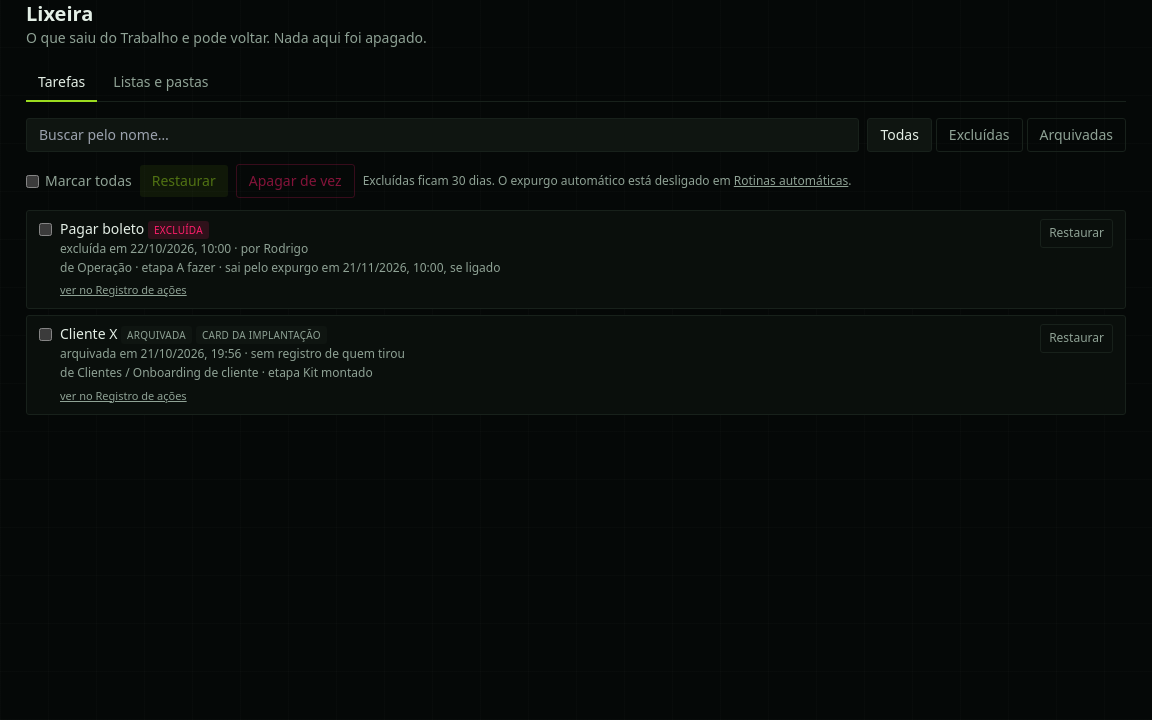
Test case: I2: a Lixeira › Apagar de vez: só com admin.usuarios, só as excluídas, com a frase
The image size is (1152, 720).
Click the checkbox named "Marcar Cliente X". click: (46, 335)
box: [39,328,52,341]
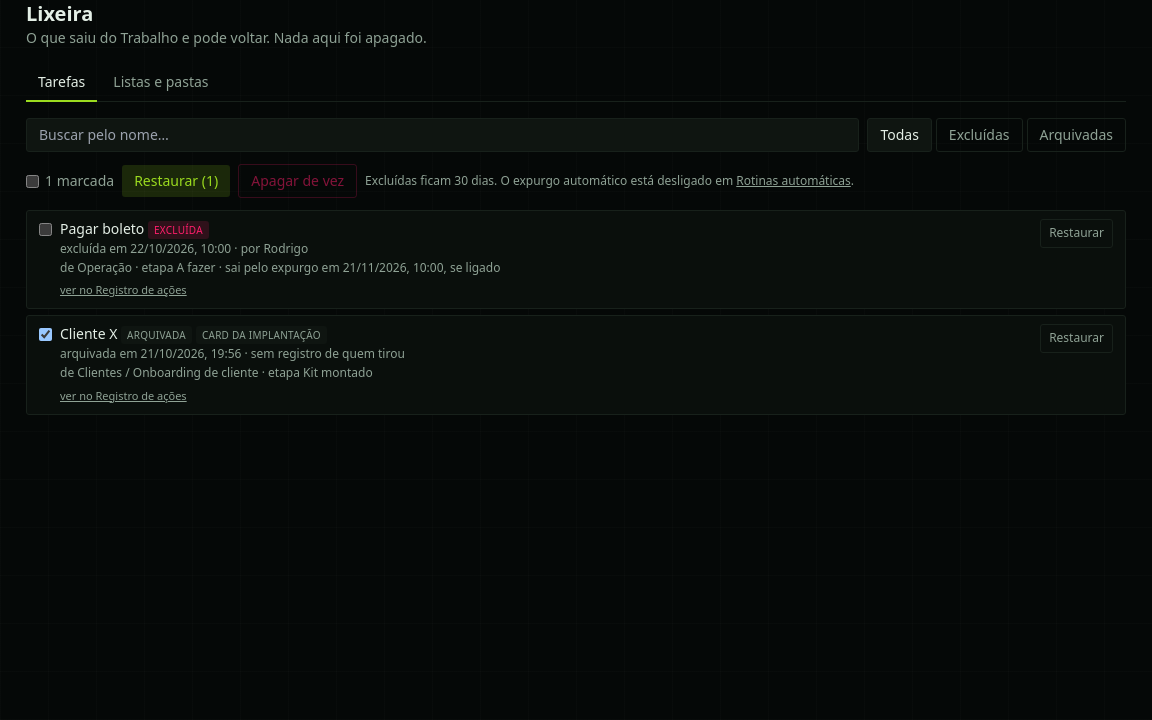
Expected: the button with test id "lixeira-apagar-de-vez" is disabled, [238,164,357,198]
Click the checkbox named "Marcar Pagar boleto". click: (46, 230)
box: [39,223,52,236]
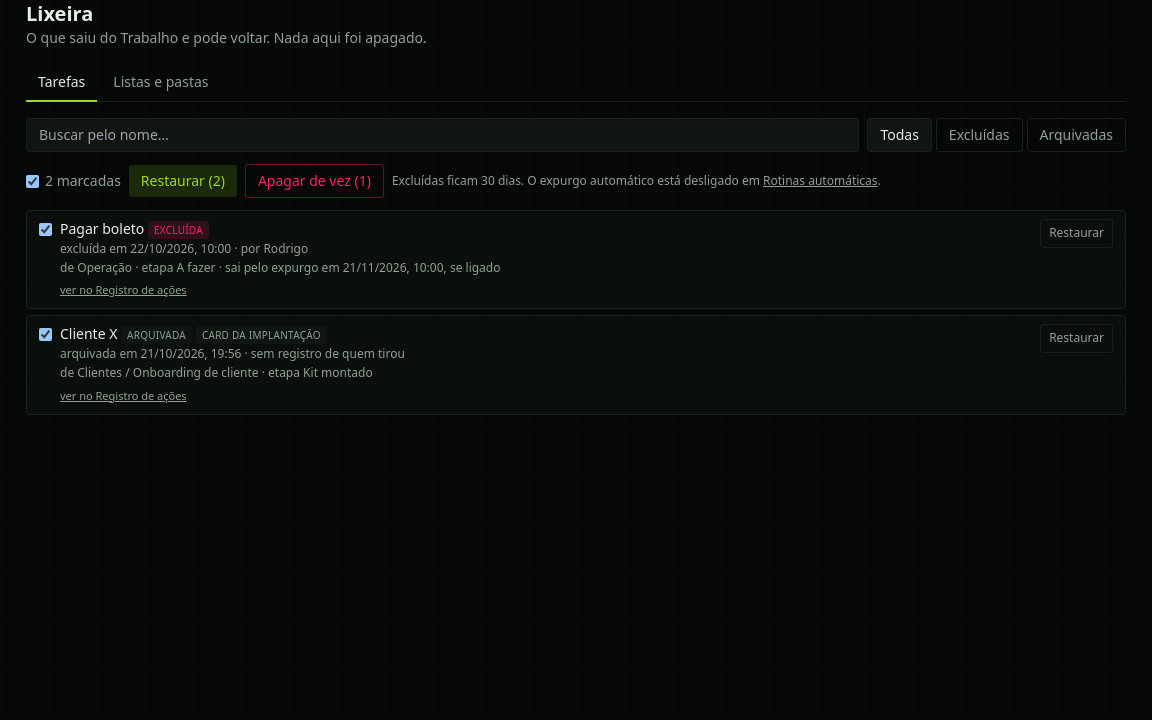
Expected: the button with test id "lixeira-apagar-de-vez" is enabled
Click the button with test id "lixeira-apagar-de-vez". click: (314, 181)
box: [245,164,384,198]
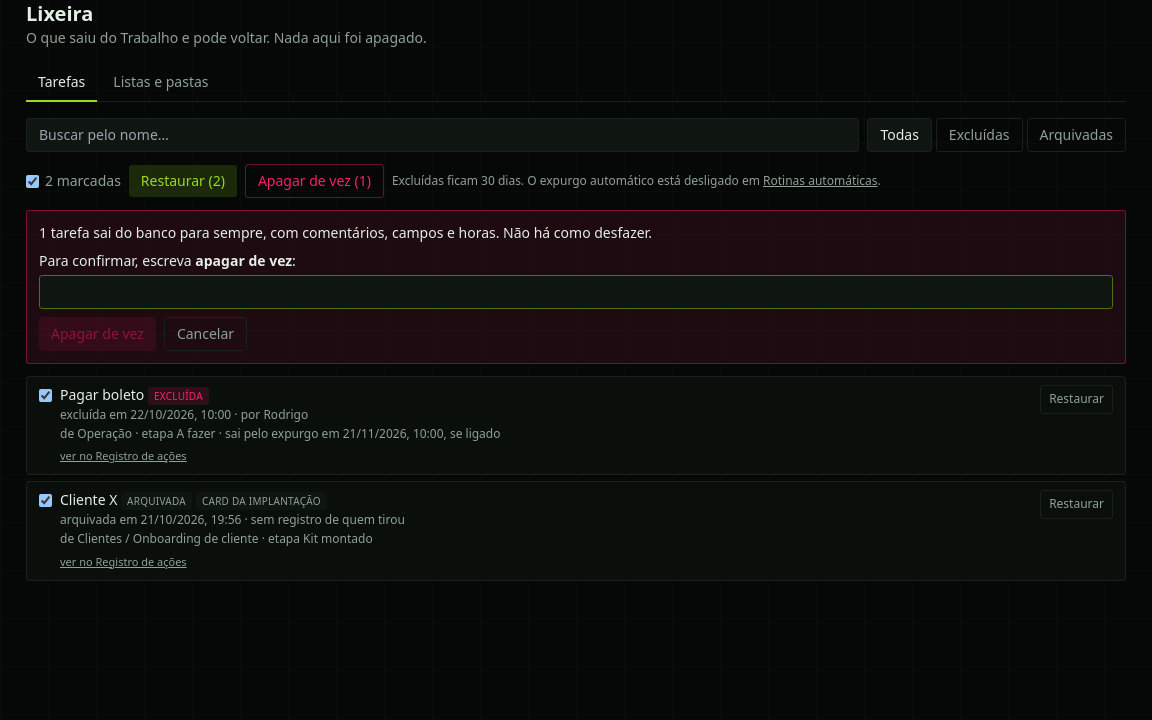
Expected: the button with test id "lixeira-apagar-confirmar" is disabled, [39,317,156,351]
Type "Apagar de vez" into the field with test id "lixeira-frase". click: (576, 292)
box: [39,275,1113,309]
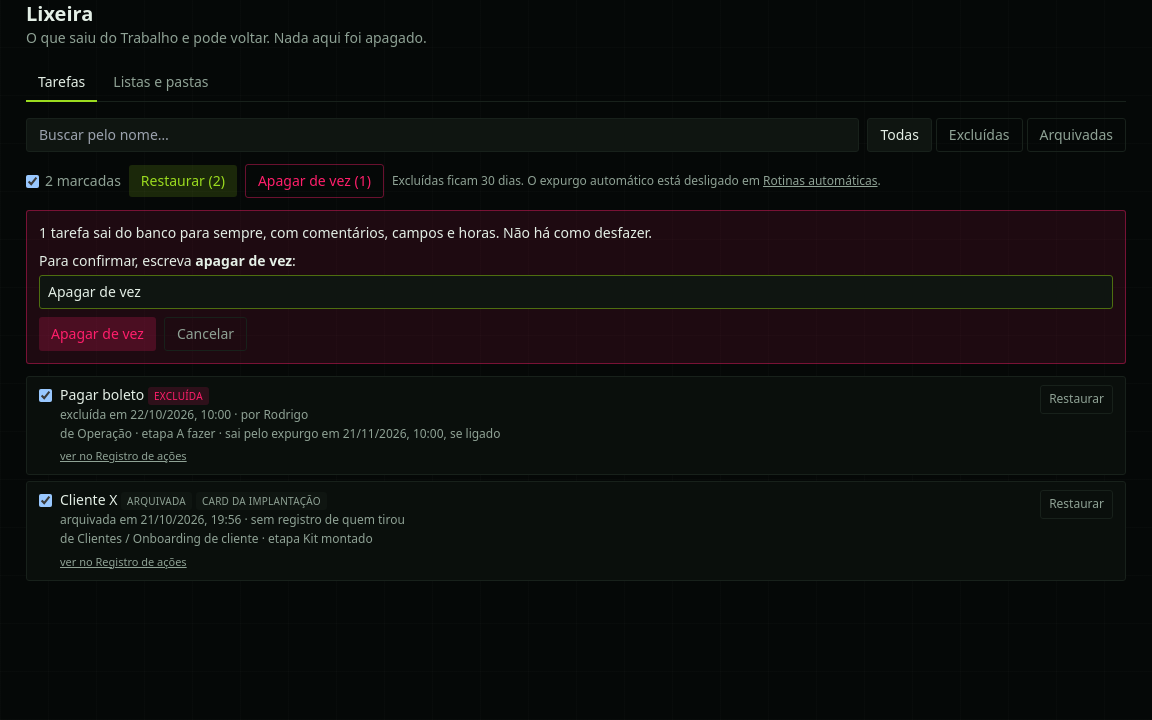
Click the button with test id "lixeira-apagar-confirmar". click: (97, 334)
box: [39,317,156,351]
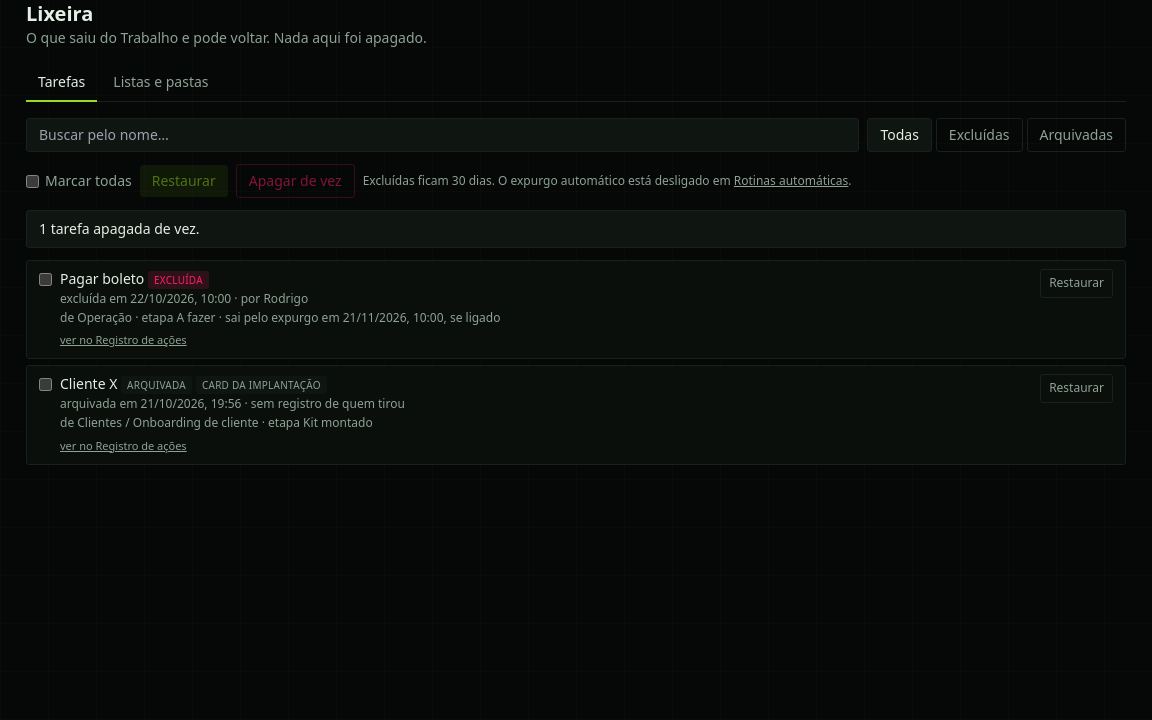
Expected: the message with test id "lixeira-aviso" shows "1 tarefa apagada de vez", [39,219,200,238]
